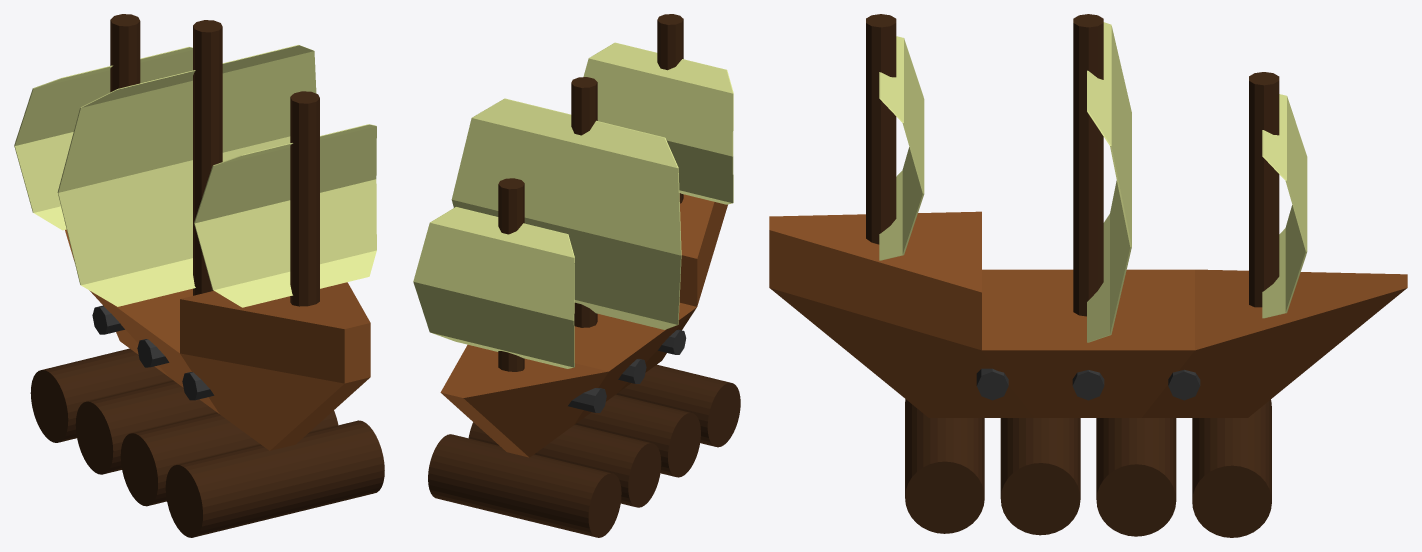
The model's file is RookOnLogs.fbx.
The picture shows the model from 3 angles, left to right: view 1: azimuth 30°, elevation 25°; view 2: azimuth 150°, elevation 25°; view 3: azimuth 270°, elevation 25°; orthographic projection. The views are drawn at different scales.
Parts seen in each view (by area): view 1: Cylinder, Plane, Cube, Plane.005, Plane.001, Cylinder.003, Cylinder.001, Cylinder.002, Cylinder.004; view 2: Plane, Cylinder, Plane.001, Cube, Plane.005, Cylinder.001, Cylinder.002, Cylinder.004, Cylinder.003; view 3: Cube, Cylinder, Cylinder.001, Plane, Cylinder.002, Cylinder.003, Plane.005, Plane.001, Cylinder.004.
Boxes of the visible parts, left/top/right/bottom form: Cylinder: left=30, top=348, right=384, bottom=537; Plane: left=57, top=45, right=316, bottom=306; Cube: left=65, top=229, right=370, bottom=450; Plane.005: left=194, top=124, right=376, bottom=307; Plane.001: left=14, top=47, right=192, bottom=230; Cylinder.003: left=290, top=91, right=319, bottom=306; Cylinder.001: left=193, top=20, right=222, bottom=295; Cylinder.002: left=110, top=14, right=140, bottom=92; Cylinder.004: left=92, top=305, right=214, bottom=400; Plane: left=451, top=98, right=681, bottom=329; Cylinder: left=428, top=364, right=740, bottom=537; Plane.001: left=413, top=207, right=574, bottom=368; Cube: left=440, top=194, right=727, bottom=457; Plane.005: left=583, top=42, right=733, bottom=204; Cylinder.001: left=571, top=77, right=597, bottom=327; Cylinder.002: left=498, top=178, right=524, bottom=371; Cylinder.004: left=568, top=329, right=686, bottom=412; Cylinder.003: left=657, top=14, right=683, bottom=203; Cube: left=769, top=211, right=1407, bottom=417; Cylinder: left=905, top=399, right=1271, bottom=537; Cylinder.001: left=1073, top=14, right=1103, bottom=316; Plane: left=1087, top=22, right=1131, bottom=342; Cylinder.002: left=1249, top=72, right=1279, bottom=307; Cylinder.003: left=866, top=14, right=896, bottom=244; Plane.005: left=879, top=36, right=924, bottom=260; Plane.001: left=1262, top=94, right=1307, bottom=318; Cylinder.004: left=976, top=368, right=1200, bottom=400.
Size of the model in its own units: 200 by 400 by 325.
